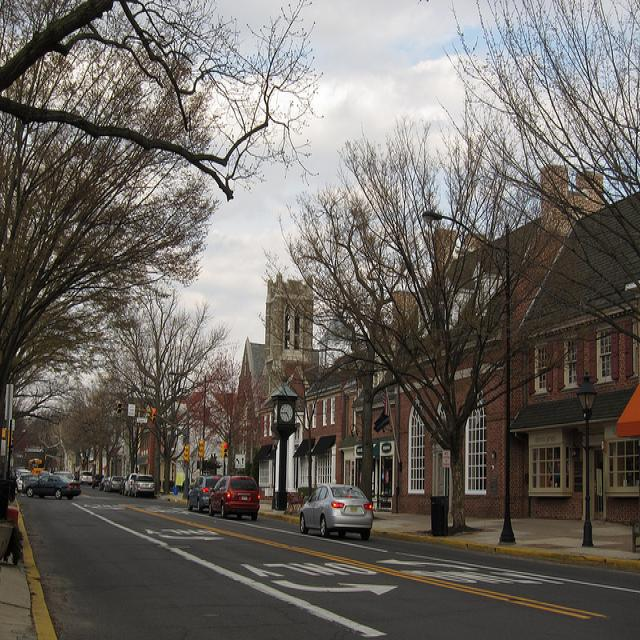Vehicle: (299, 484, 373, 540), (209, 475, 261, 521), (22, 474, 81, 500), (187, 476, 221, 514), (131, 474, 155, 498), (16, 473, 38, 494), (108, 476, 123, 493), (128, 473, 138, 496), (79, 470, 93, 485), (91, 474, 104, 489), (100, 477, 112, 492), (122, 474, 130, 496)
